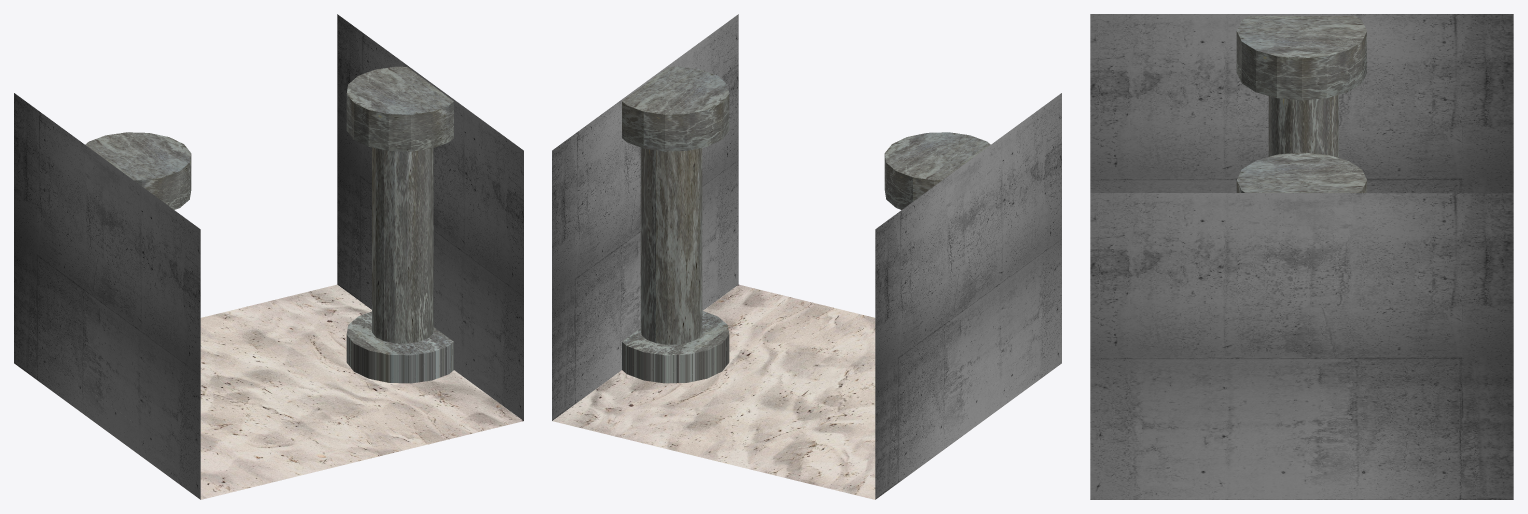
File: Level4.fbx
The picture shows the model from 3 angles, left to right: view 1: azimuth 30°, elevation 25°; view 2: azimuth 150°, elevation 25°; view 3: azimuth 270°, elevation 25°; orthographic projection. The views are drawn at different scales.
Parts seen in each view (by area): view 1: Cenario; view 2: Cenario; view 3: Cenario.
Part boxes in pixels (x1,y1,x2,y2): Cenario: [14, 14, 523, 499]; Cenario: [552, 14, 1061, 499]; Cenario: [1090, 14, 1513, 499].
Bounding box in the file's own units: 1200 × 960 × 1200.
